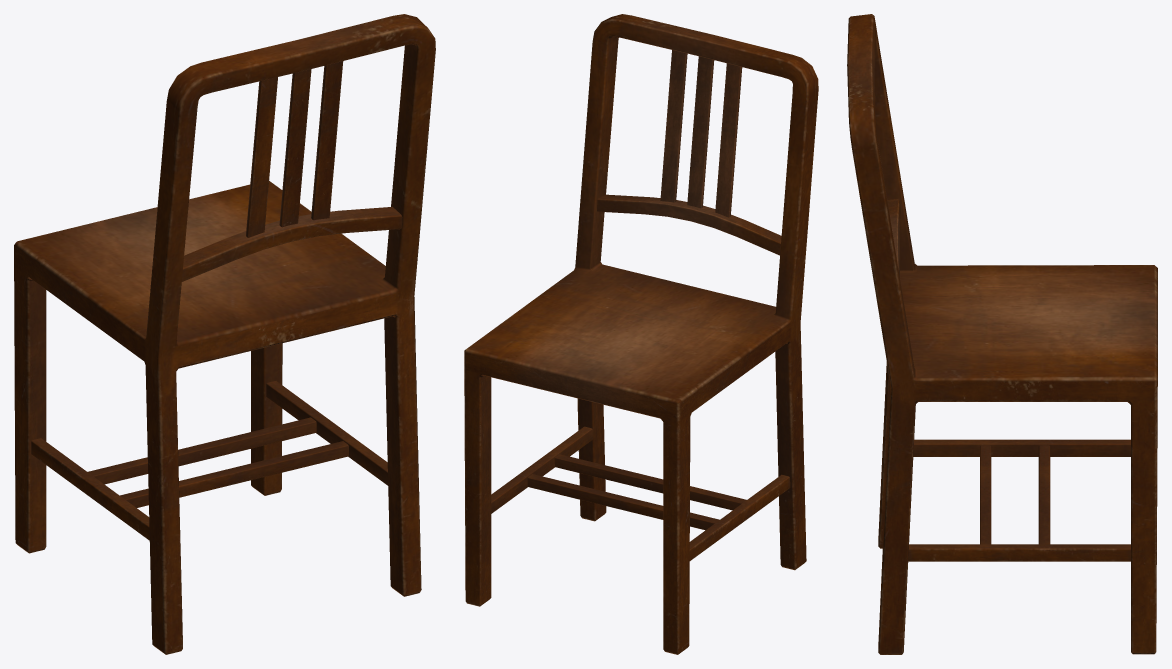
The model's file is chair_3.gltf.
3 views of the same model, side by side, from view 1: azimuth 30°, elevation 25°; view 2: azimuth 150°, elevation 25°; view 3: azimuth 270°, elevation 25° (orthographic). The views are drawn at different scales.
Visible parts, largest first — view 1: old_chair; view 2: old_chair; view 3: old_chair.
Boxes of the visible parts, x1,y1,x2,y2 form: old_chair: (14,14,435,654); old_chair: (464,14,818,654); old_chair: (847,14,1157,654).
Size of the model in its own units: 0.5134 by 1.12 by 0.5872.
1 material, 1 textured.
